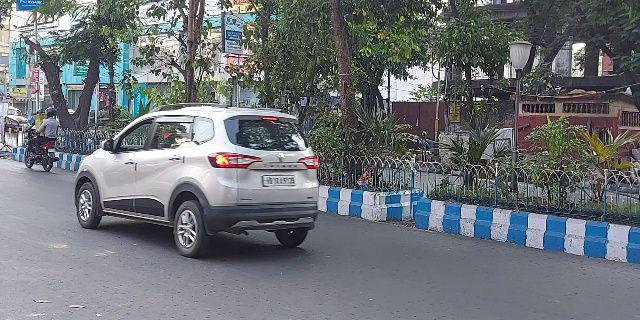Car: (73, 103, 326, 261)
Motorbike: (25, 107, 62, 174)
